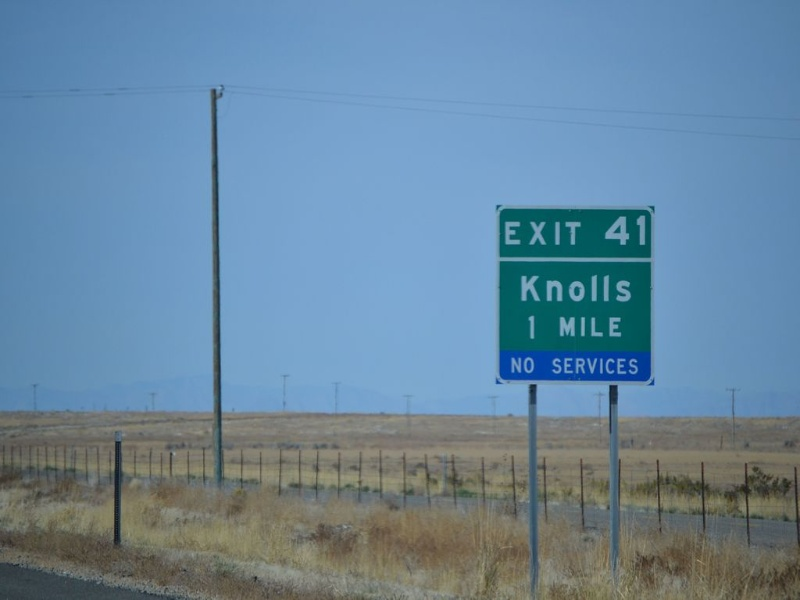exit: (495, 204, 655, 389)
